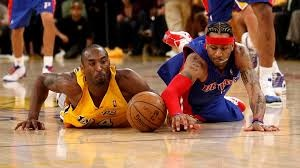falling: (156, 17, 276, 134)
